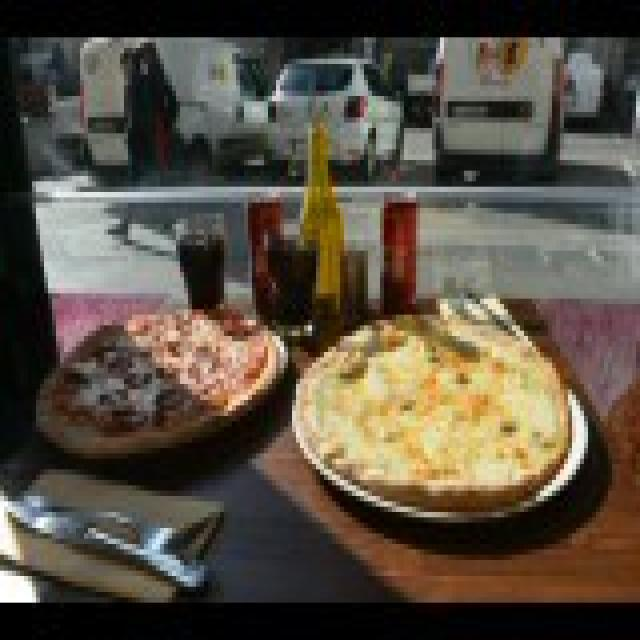Cup: (172, 208, 224, 309)
Plate: (288, 309, 588, 523), (40, 308, 288, 454)
